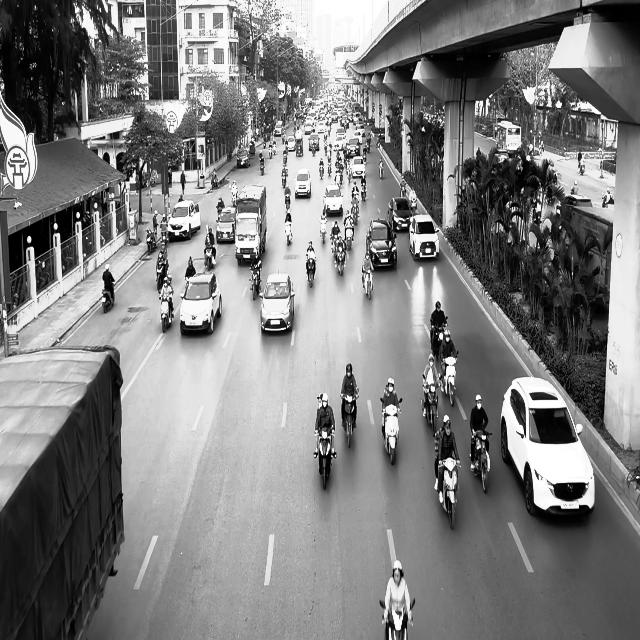bus: (496, 120, 522, 155)
car: (500, 376, 595, 517), (179, 272, 222, 335), (259, 272, 295, 334), (366, 219, 397, 269), (408, 214, 439, 261), (167, 200, 201, 242), (387, 196, 413, 232), (216, 206, 236, 243), (323, 184, 343, 216), (294, 168, 311, 198)
motorbike: (437, 457, 460, 530), (379, 397, 402, 465), (379, 598, 415, 640), (470, 429, 492, 493), (315, 427, 336, 490), (340, 389, 359, 447), (421, 378, 440, 436), (441, 351, 458, 406), (158, 292, 174, 333), (249, 262, 262, 300), (101, 280, 115, 314), (362, 268, 374, 300), (306, 253, 316, 287), (204, 244, 216, 270), (284, 218, 292, 245), (259, 156, 265, 175)
truck: (233, 184, 267, 266)
